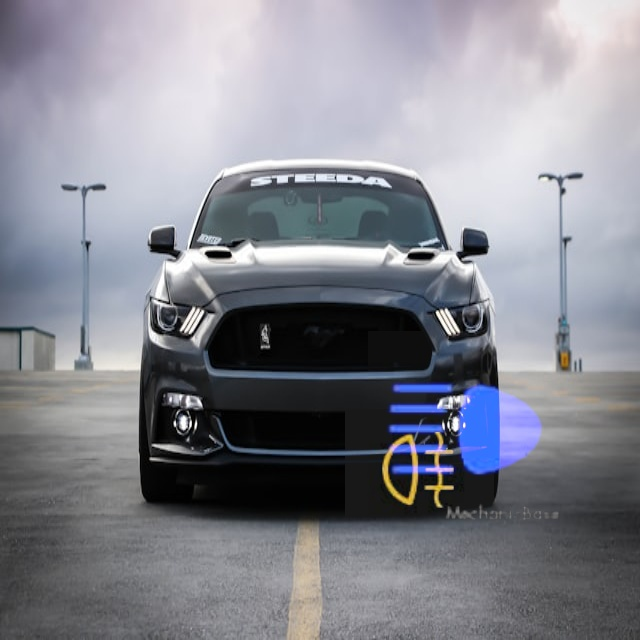symbol: (368, 331, 567, 530), (345, 396, 494, 545)
